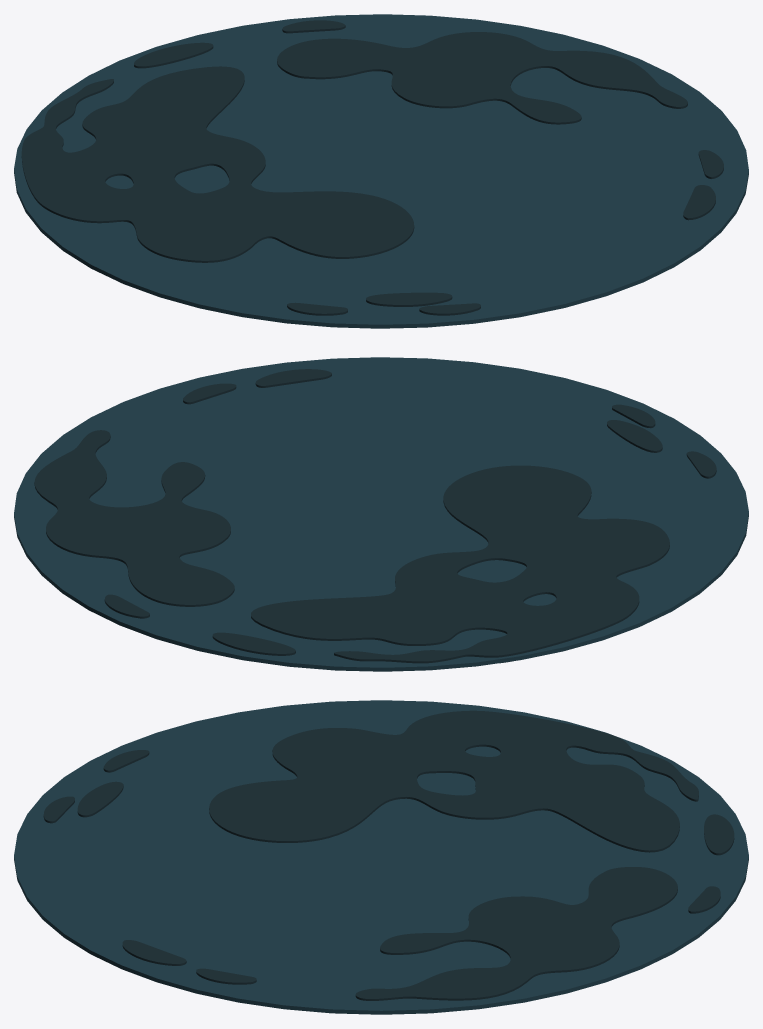
File: emoji_u1f311.glb
3 views of the same model, one above another, from view 1: azimuth 30°, elevation 25°; view 2: azimuth 150°, elevation 25°; view 3: azimuth 270°, elevation 25° (orthographic).
Parts seen in each view (by area): view 1: emoji_u1f311; view 2: emoji_u1f311; view 3: emoji_u1f311.
Part boxes in pixels (bbox=[...]): emoji_u1f311: bbox=[14, 14, 748, 328]; emoji_u1f311: bbox=[14, 357, 748, 671]; emoji_u1f311: bbox=[14, 700, 748, 1014].
Bounding box in the file's own units: 0.0339 × 0.0004 × 0.0339.
